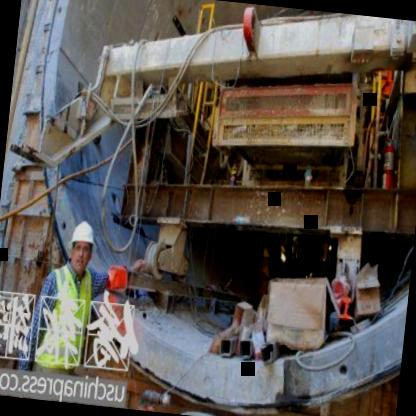helmet: (65, 216, 99, 275)
